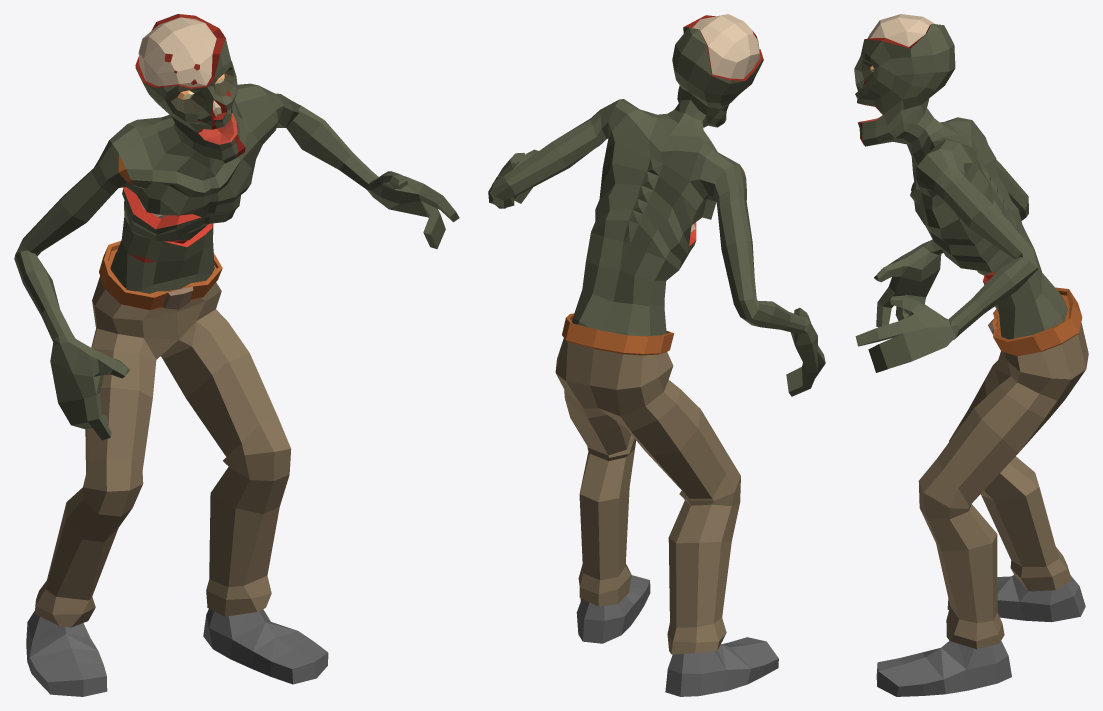
3 renders of one model, left to right at view 1: azimuth 30°, elevation 25°; view 2: azimuth 150°, elevation 25°; view 3: azimuth 270°, elevation 25°, orthographic. The views are drawn at different scales.
Visible parts, largest first — view 1: Zombie_09; view 2: Zombie_09; view 3: Zombie_09.
Boxes of the visible parts, bbox=[...] form: Zombie_09: bbox=[14, 14, 459, 696]; Zombie_09: bbox=[488, 14, 825, 696]; Zombie_09: bbox=[854, 14, 1088, 696].
Bounding box in the file's own units: 99.53 × 172 × 59.19.
Materials: 1 (1 with a texture image).
